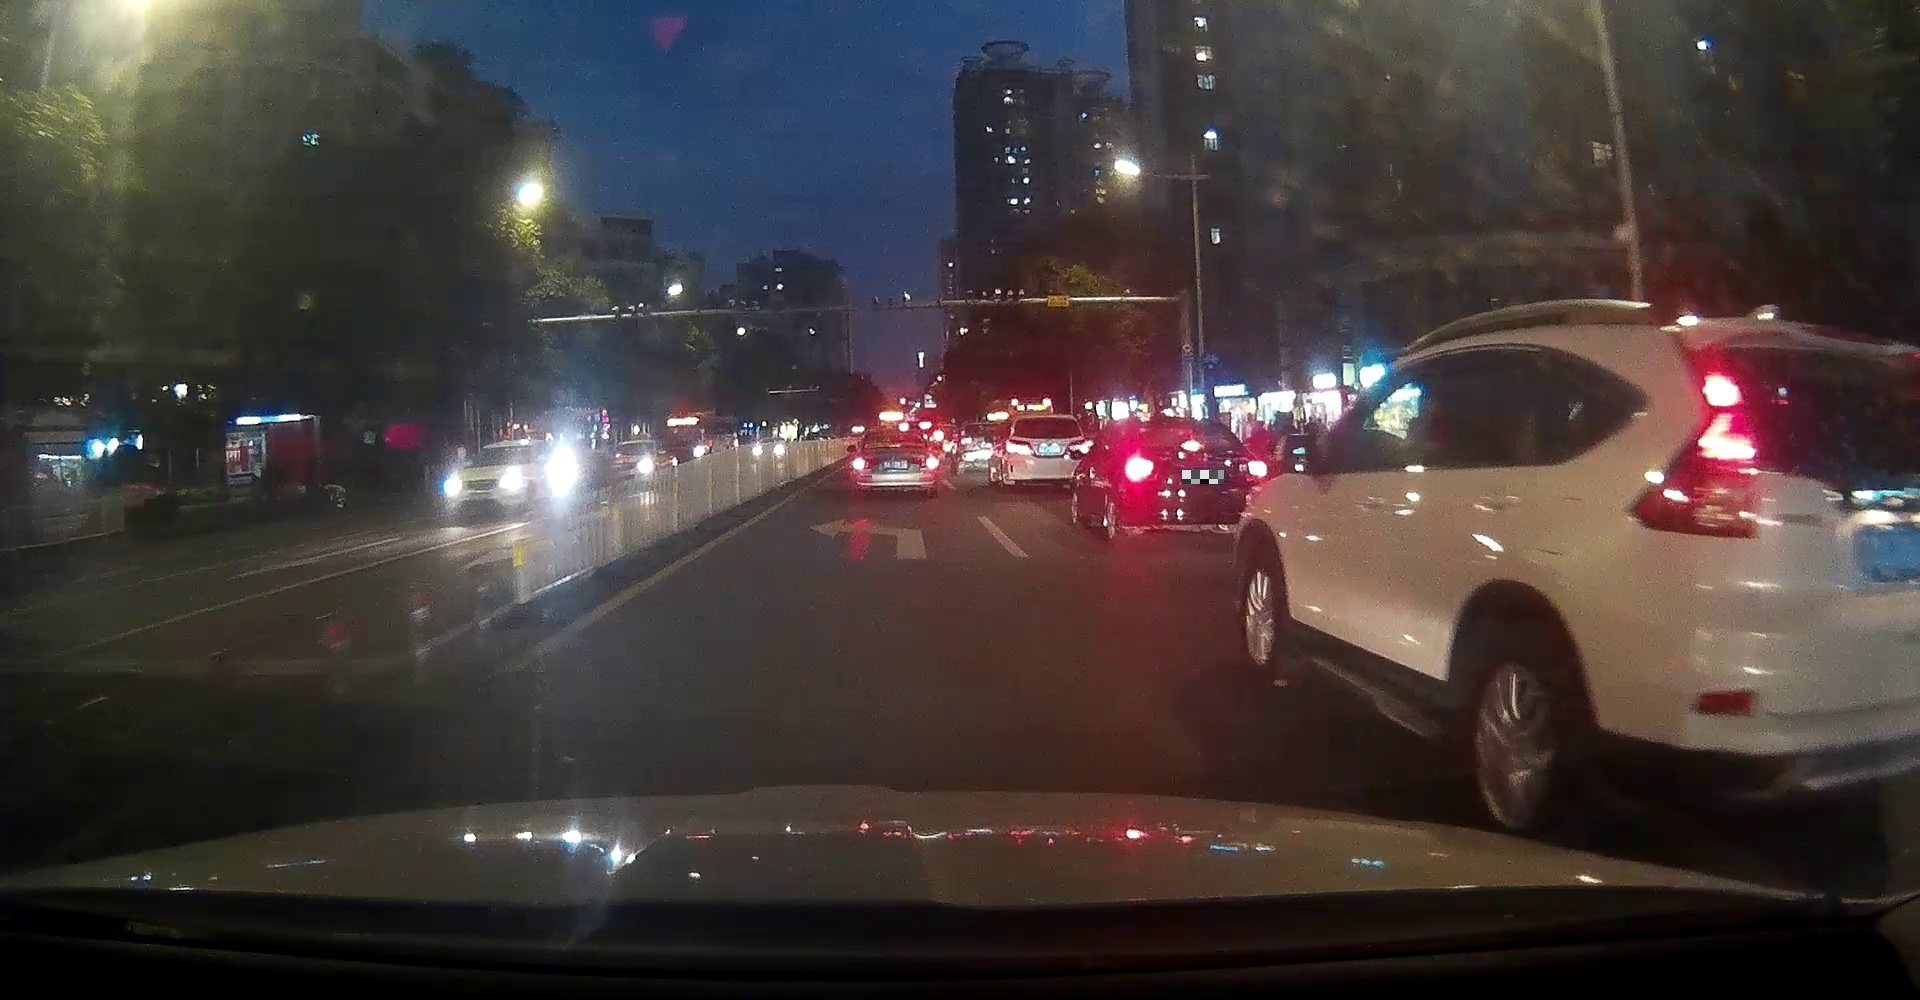L_light: (1124, 456, 1154, 484), (852, 457, 883, 470)
R_light: (909, 456, 938, 470), (1247, 459, 1267, 478)
T_light: (1178, 440, 1204, 452), (889, 444, 902, 447)
night-no: (1121, 416, 1269, 547), (852, 428, 938, 497)
plate_1: (1182, 470, 1224, 484)
